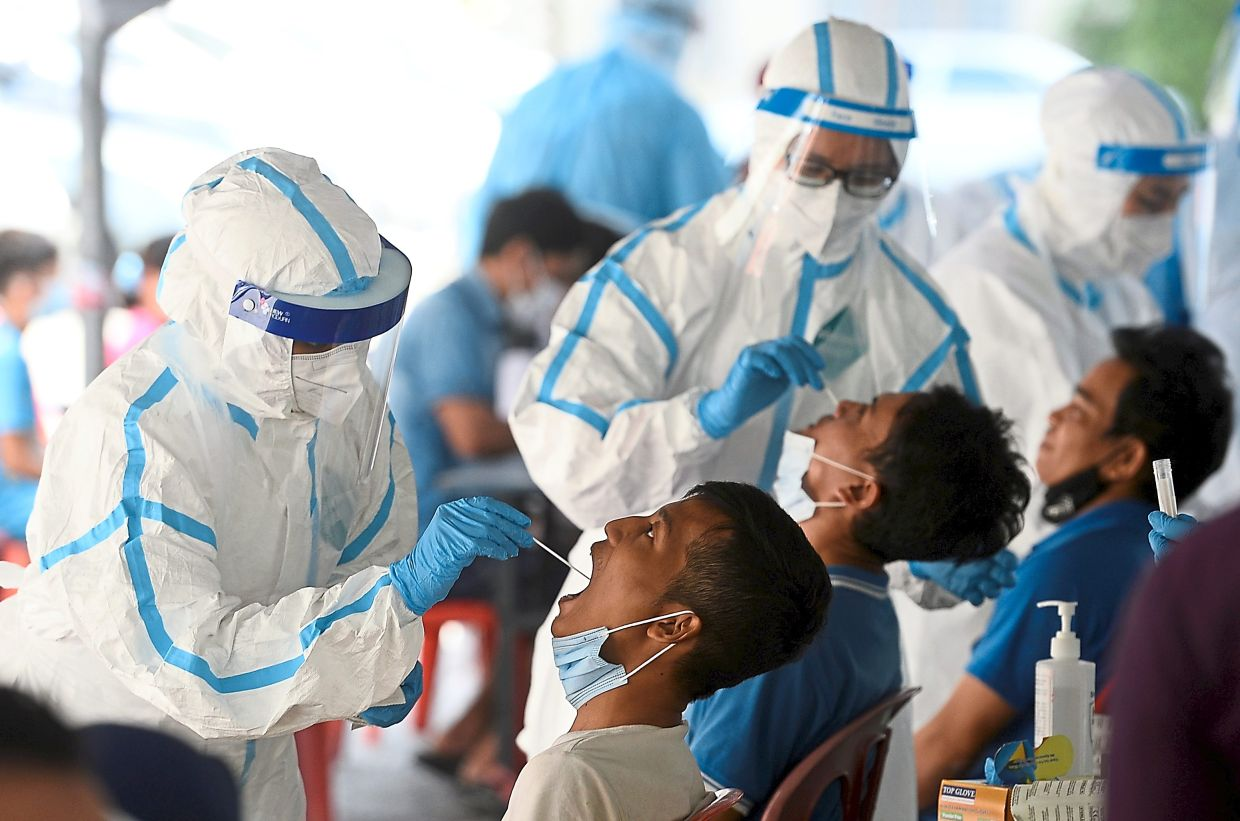Coverall: (508, 12, 1003, 762), (19, 134, 439, 821), (917, 63, 1209, 586)
Face_Shield: (211, 240, 417, 474), (751, 87, 920, 284), (1083, 134, 1210, 292)
Gloves: (386, 491, 533, 611), (696, 324, 828, 452)
mask_weared_incorrect: (548, 500, 708, 701), (770, 390, 908, 524), (1034, 361, 1135, 523)
with_mask: (777, 147, 891, 265), (281, 331, 380, 443), (1114, 174, 1191, 288)
